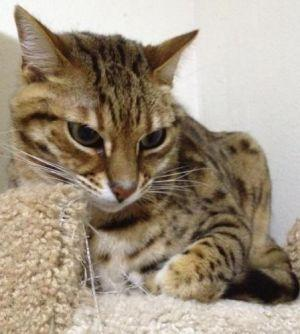bengal: (4, 1, 207, 229)
